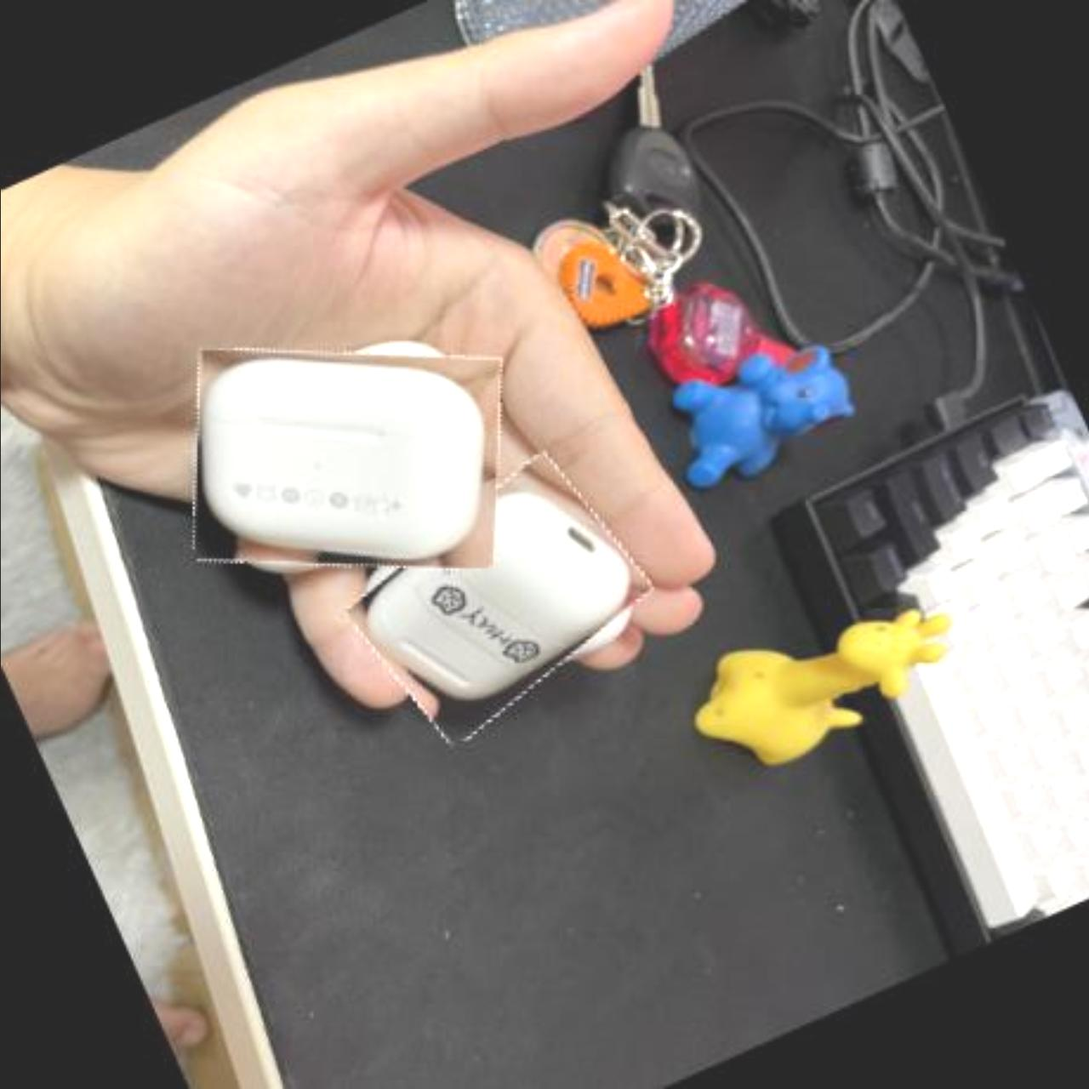AirPods: (144, 269, 553, 645), (333, 453, 666, 750)
